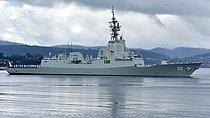MIL_Ship: (6, 11, 203, 78)
